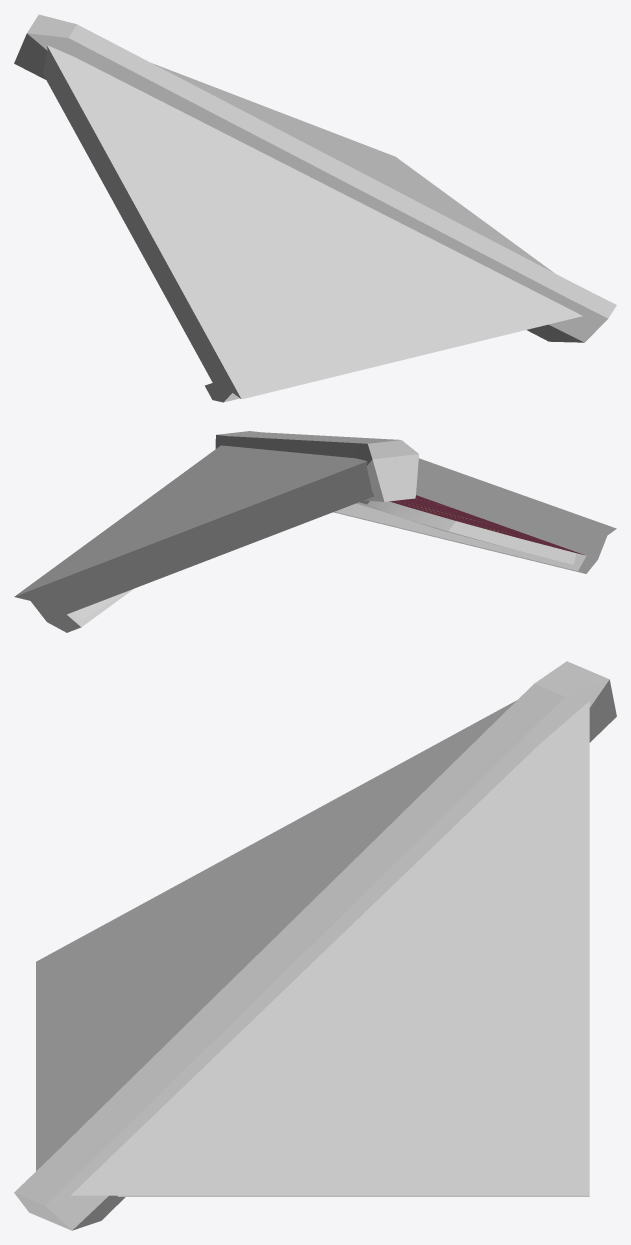
File: SM_Bld_Roof_M_Straight_Corner_Out_01.fbx
3 views of the same model, one above another, from view 1: azimuth 30°, elevation 25°; view 2: azimuth 150°, elevation 25°; view 3: azimuth 270°, elevation 25° (orthographic). The views are drawn at different scales.
Visible parts, largest first — view 1: SM_Bld_Roof_M_Straight_Corner_Out_01; view 2: SM_Bld_Roof_M_Straight_Corner_Out_01; view 3: SM_Bld_Roof_M_Straight_Corner_Out_01.
Boxes of the visible parts, x1,y1,x2,y2 form: SM_Bld_Roof_M_Straight_Corner_Out_01: (14,14,616,402); SM_Bld_Roof_M_Straight_Corner_Out_01: (14,431,616,632); SM_Bld_Roof_M_Straight_Corner_Out_01: (14,661,616,1230).
Size of the model in its own units: 285 by 173 by 285.
